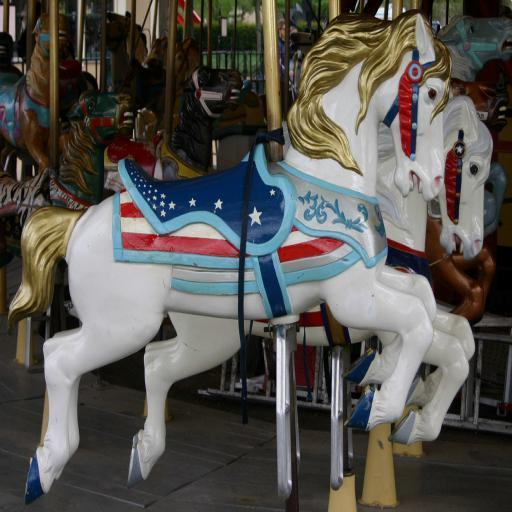horse: (0, 8, 512, 504)
